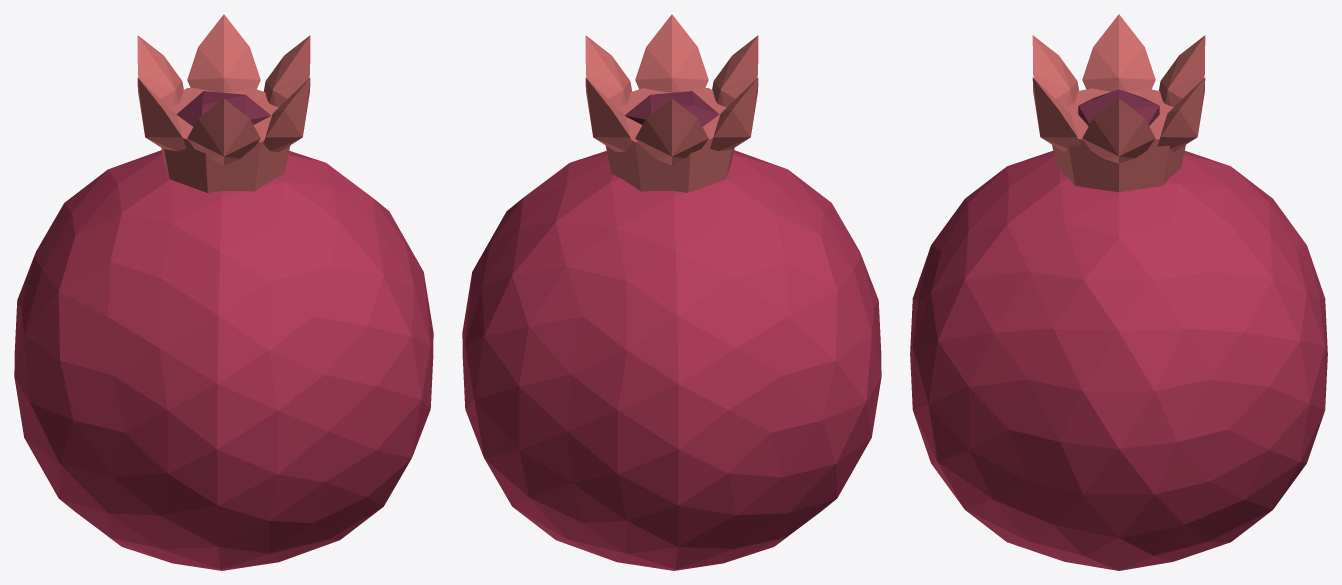
The model's file is PomegranateFruit.obj.
The picture shows the model from 3 angles, left to right: view 1: azimuth 30°, elevation 25°; view 2: azimuth 150°, elevation 25°; view 3: azimuth 270°, elevation 25°; orthographic projection.
Parts seen in each view (by area): view 1: PomegranateFruit_PomegranateRind, PomegranateFruit_PomegranateCalyx, PomegranateFruit_PomegranateCrownInside; view 2: PomegranateFruit_PomegranateRind, PomegranateFruit_PomegranateCalyx, PomegranateFruit_PomegranateCrownInside; view 3: PomegranateFruit_PomegranateRind, PomegranateFruit_PomegranateCalyx, PomegranateFruit_PomegranateCrownInside.
Boxes of the visible parts, x1,y1,x2,y2 form: PomegranateFruit_PomegranateRind: (14,150,433,570); PomegranateFruit_PomegranateCalyx: (137,14,310,192); PomegranateFruit_PomegranateCrownInside: (176,91,271,126); PomegranateFruit_PomegranateRind: (462,150,881,570); PomegranateFruit_PomegranateCalyx: (585,14,758,192); PomegranateFruit_PomegranateCrownInside: (624,91,719,126); PomegranateFruit_PomegranateRind: (910,151,1327,570); PomegranateFruit_PomegranateCalyx: (1032,14,1205,192); PomegranateFruit_PomegranateCrownInside: (1078,89,1159,125).
Size of the model in its own units: 1.03 by 1.26 by 0.965.
